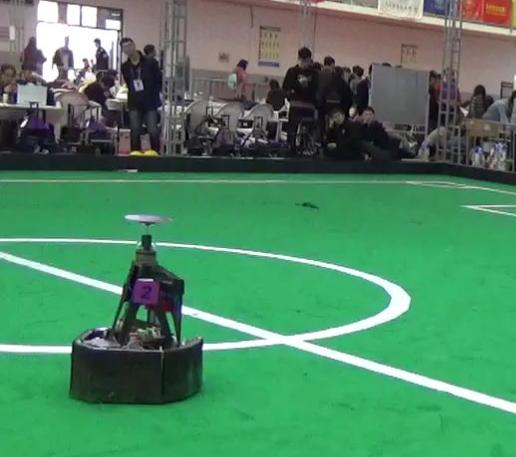robot: (66, 205, 221, 408)
